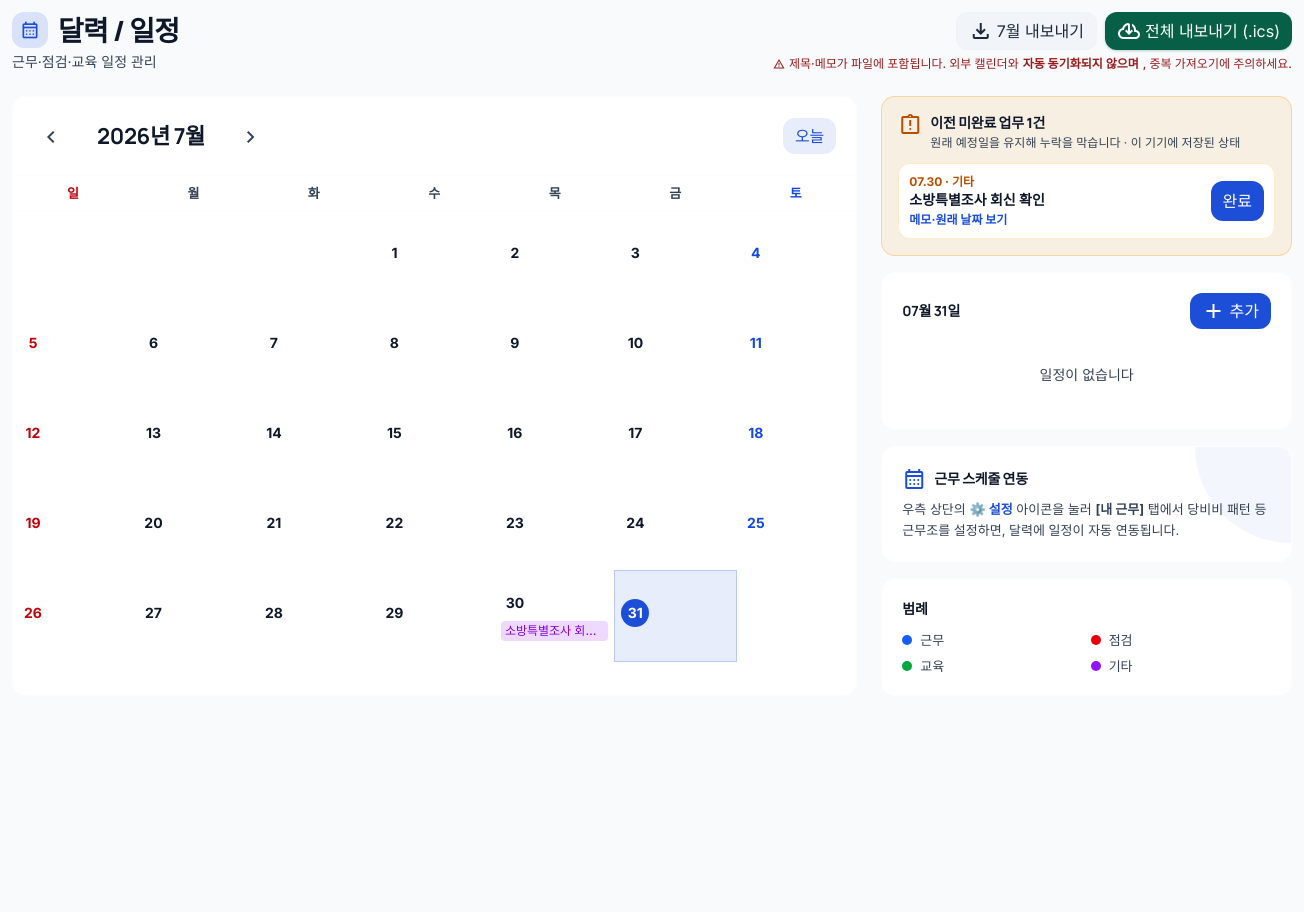
Calendar › opens overdue work in its original date and lets the user undo completion
Check: the element "이전 미완료 업무" shows "이전 미완료 업무 1건", box [881,96,1292,256]
Step 1. Click the button with aria-label "소방특별조사 회신 확인 원래 날짜 보기" → (926, 182), box [909,174,1202,228]
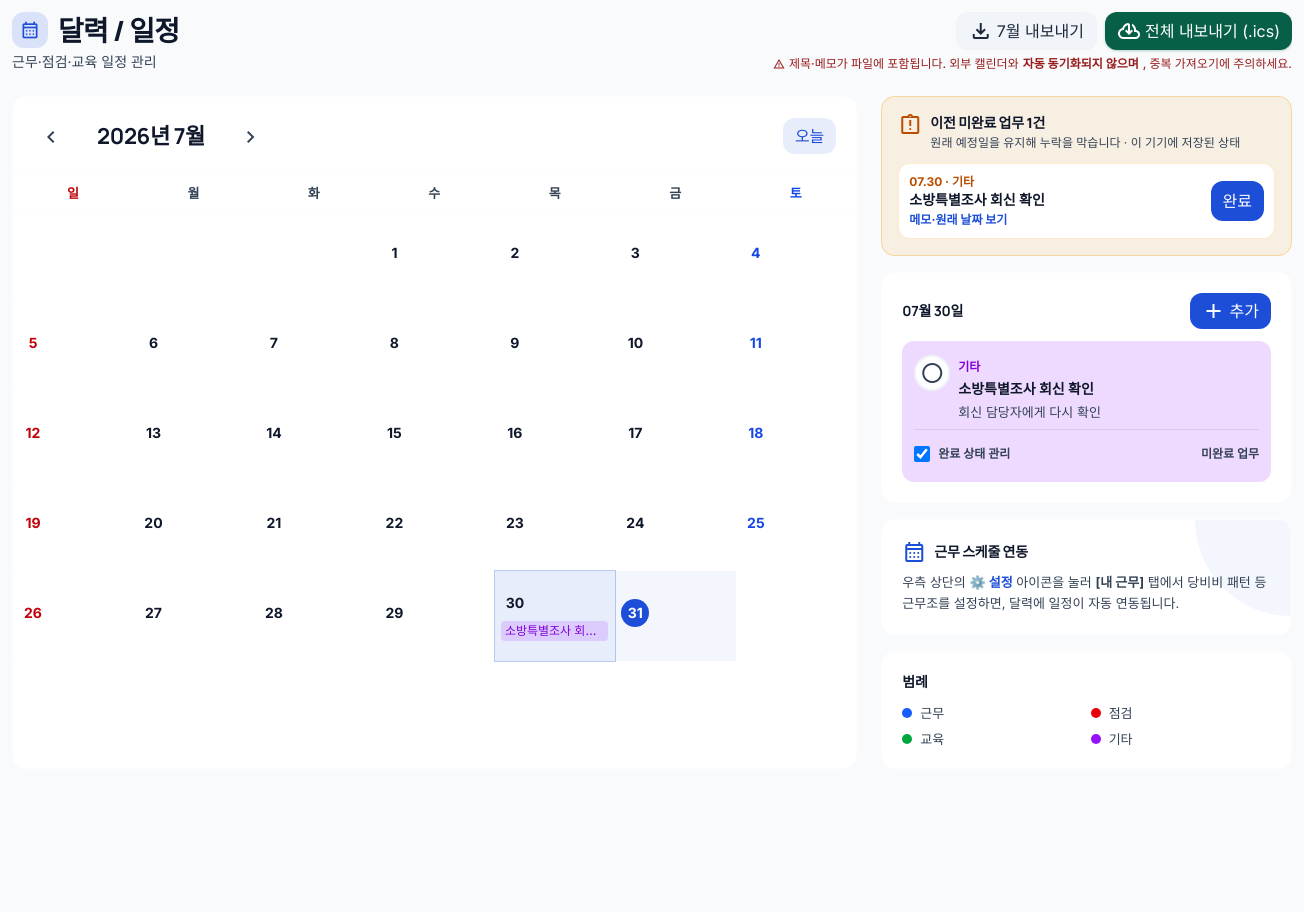
Check: the heading "07월 30일" is shown, box [902,301,963,321]
Check: the text "회신 담당자에게 다시 확인" is shown, box [958,404,1101,420]
Step 2. Click the button with aria-label "소방특별조사 회신 확인 이전 업무 완료 표시" → (1237, 201), box [1210,181,1264,221]
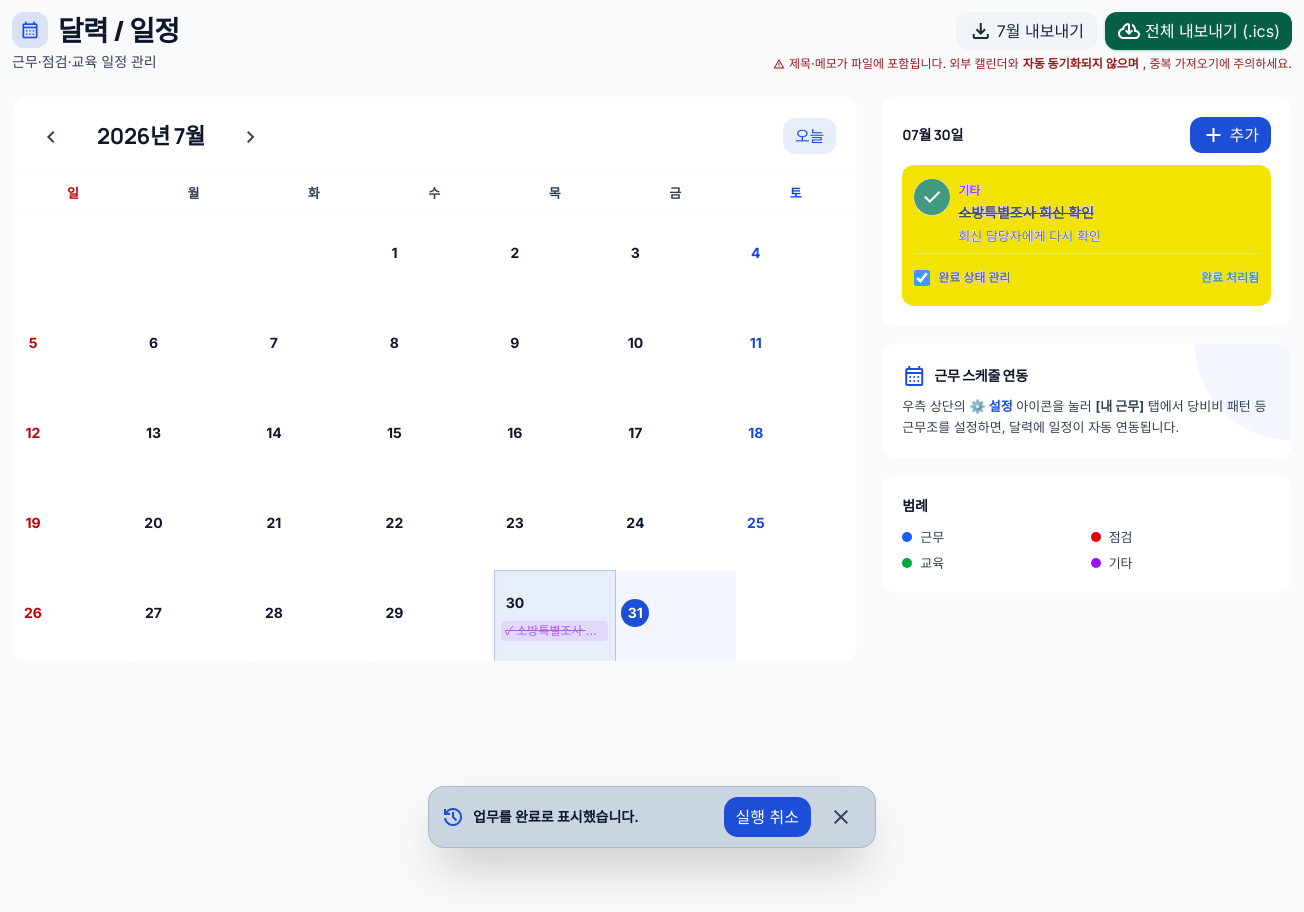
Check: the heading "이전 미완료 업무" is gone
Step 3. Click the button "실행 취소" → (767, 817), box [724,797,811,837]
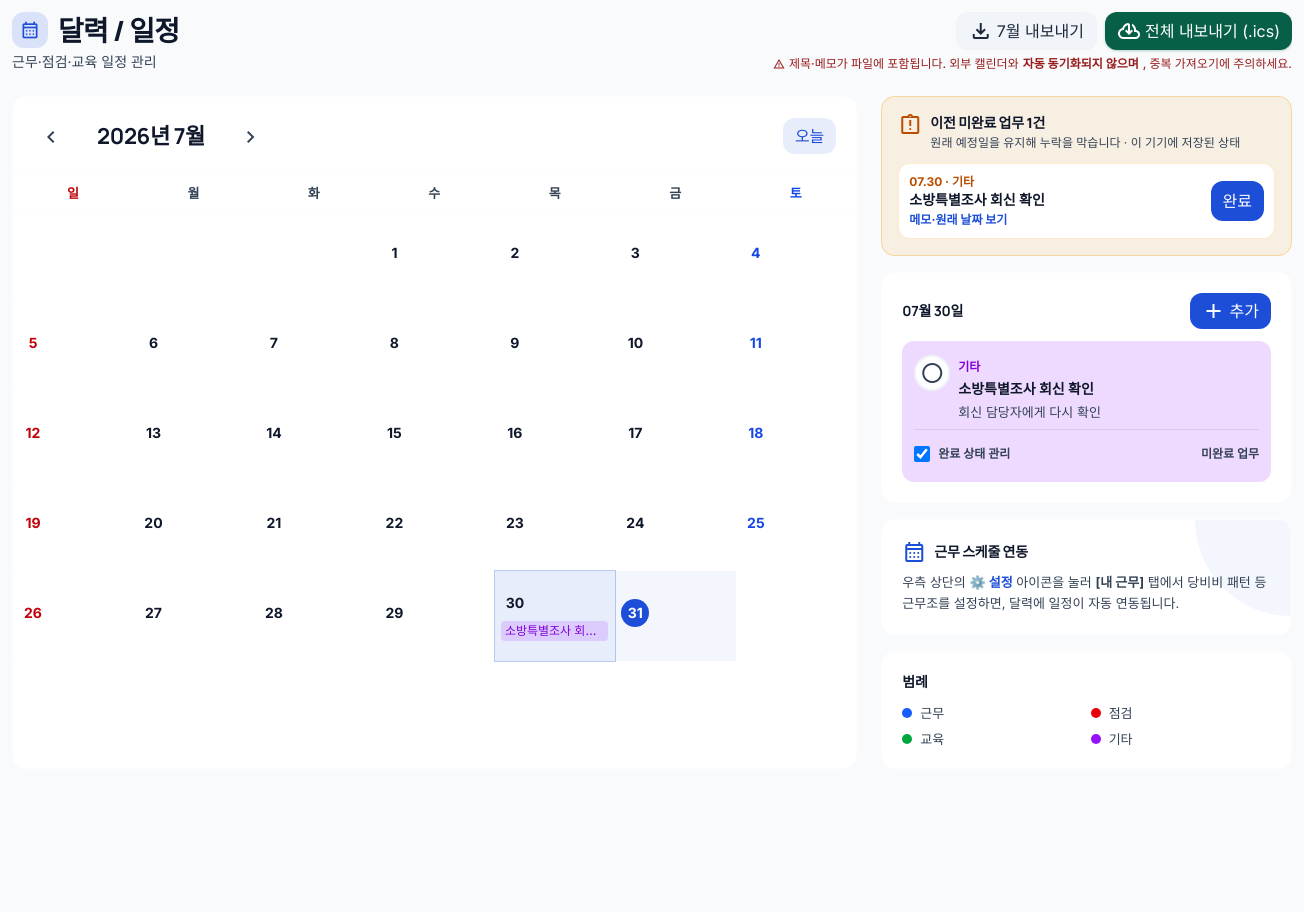
Check: the element "이전 미완료 업무" is shown, box [881,96,1292,256]
